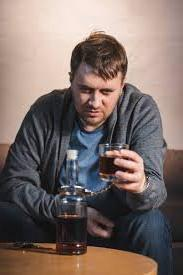Drunk: (74, 61, 119, 124)
